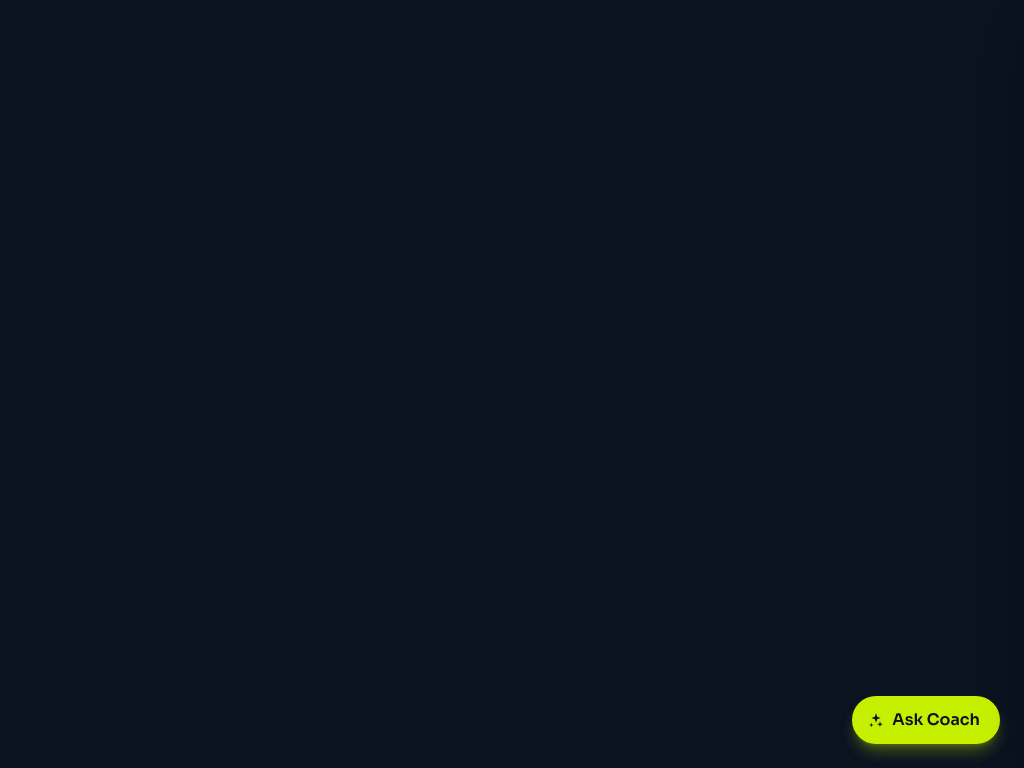
AIMessageBar › sends a typed message and renders the streamed reply
The image size is (1024, 768).
Click the button with aria-label "Open AI coach" at (926,720), box [852,696,1000,744]
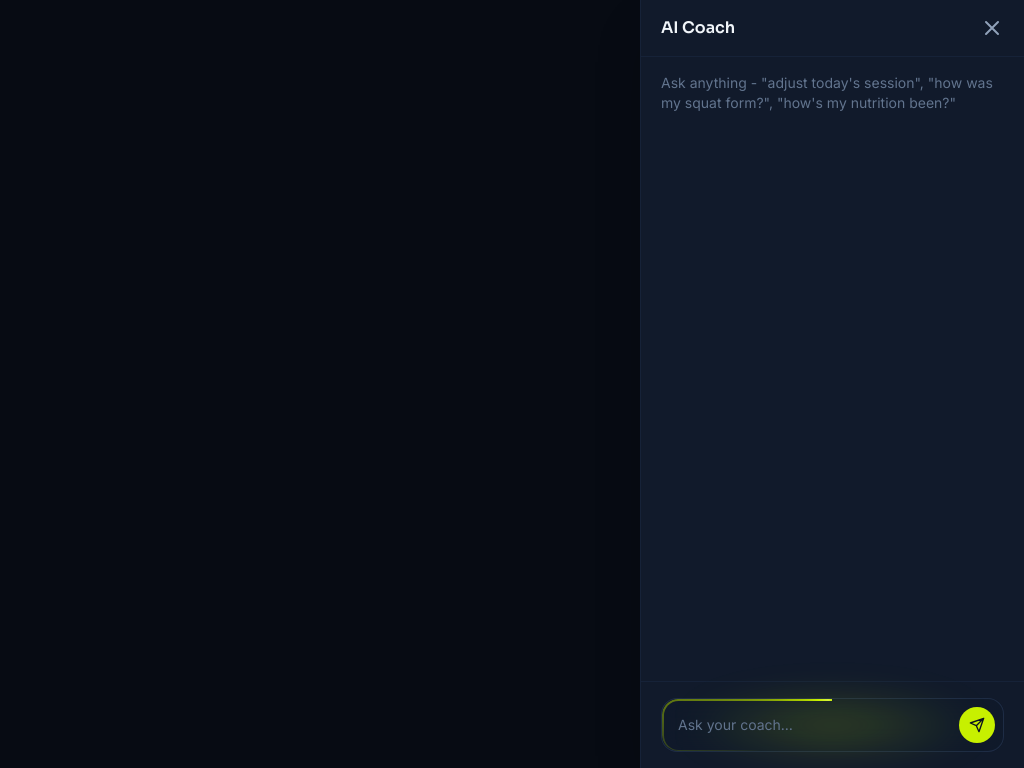
Type "How is my squat progressing?" into the field with placeholder "Ask your coach…" at (810,725), box [670,707,951,743]
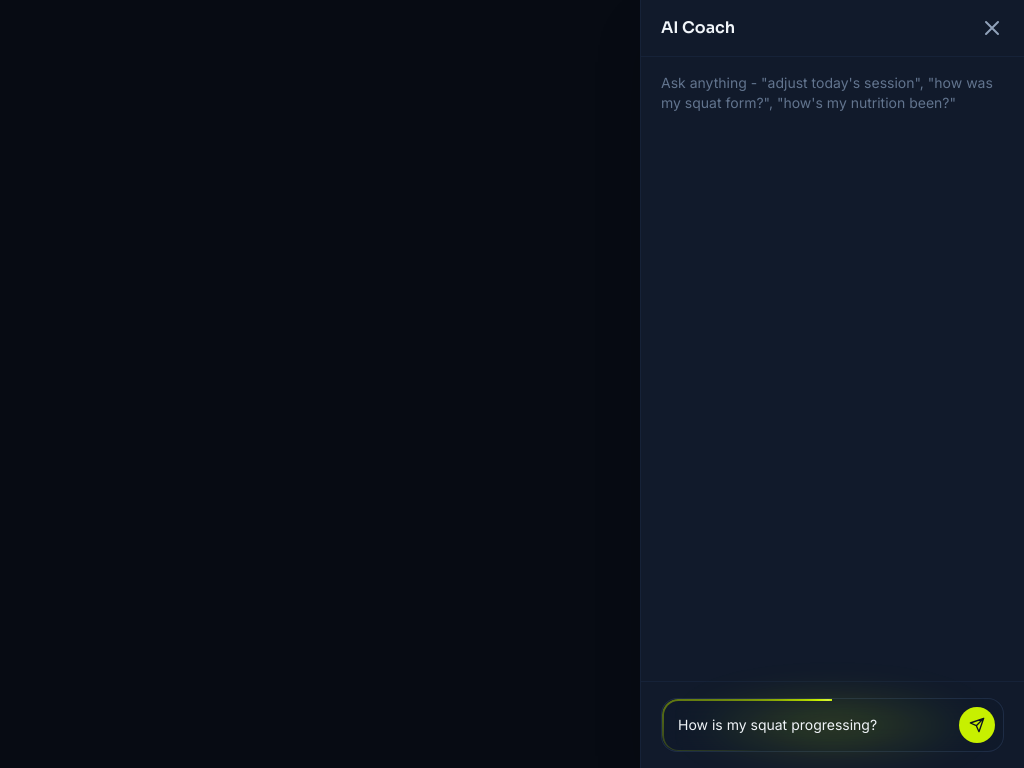
Submit the form with placeholder "Ask your coach…", box [661,698,1004,752]
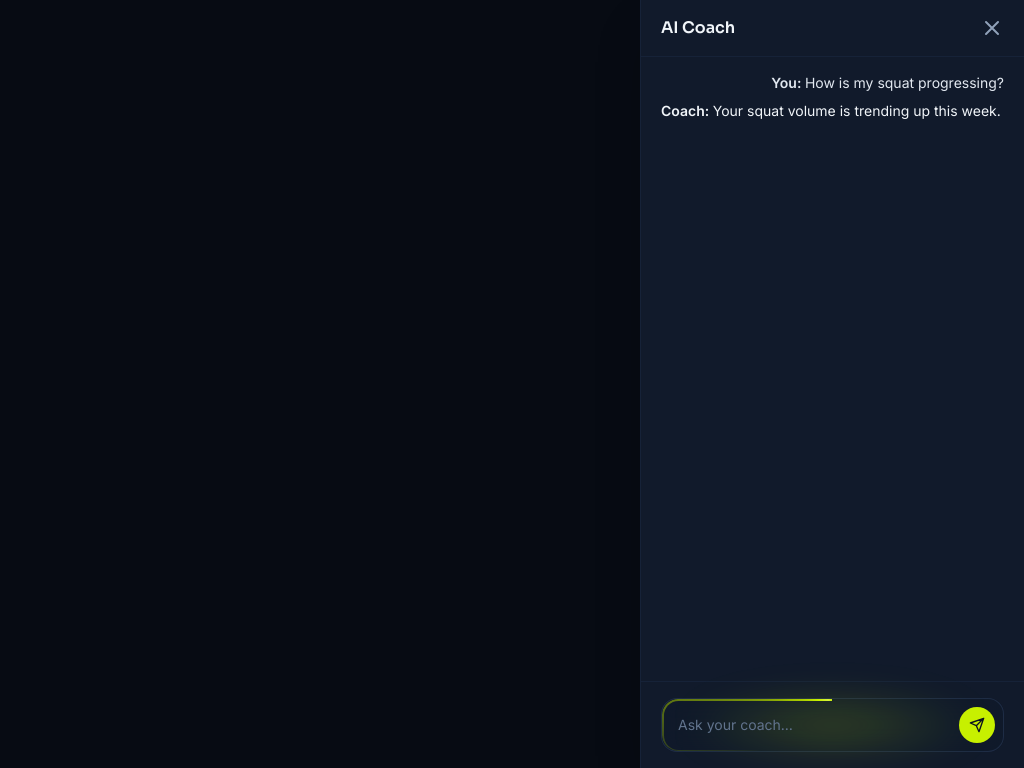
Result: the text "Your squat volume is trending up this week." is shown at [713,102,1001,119]
Result: the text "How is my squat progressing?" is shown at [805,74,1004,91]
